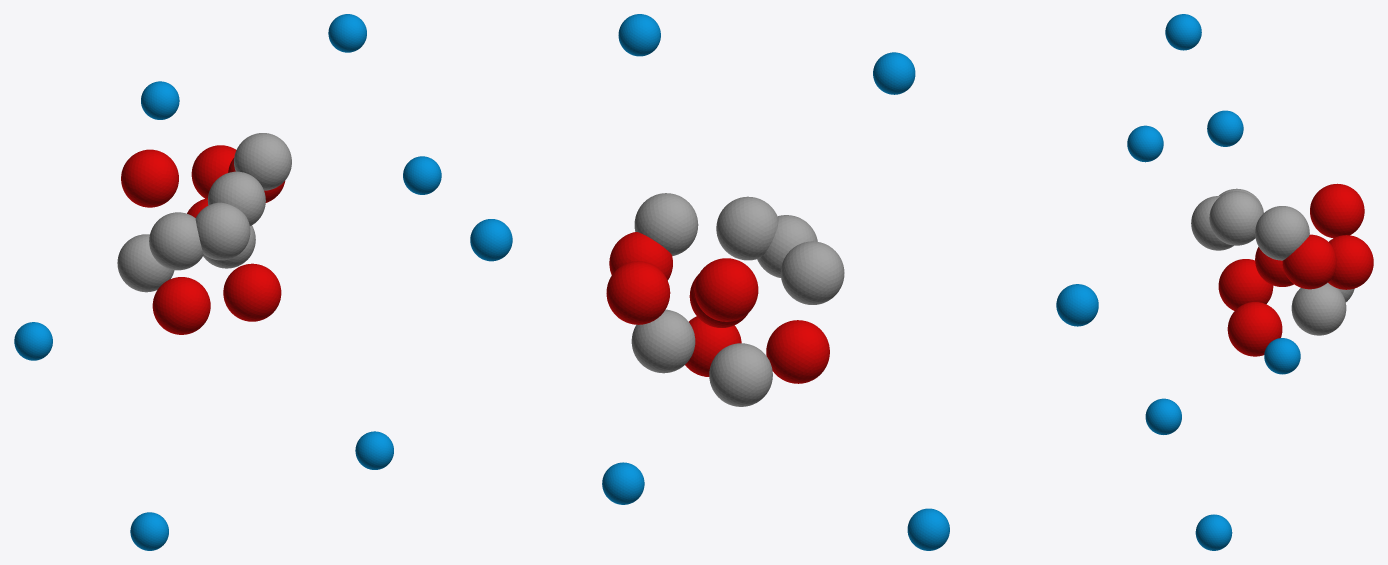
3 renders of one model, left to right at view 1: azimuth 30°, elevation 25°; view 2: azimuth 150°, elevation 25°; view 3: azimuth 270°, elevation 25°, orthographic. The views are drawn at different scales.
Parts seen in each view (by area): view 1: world; view 2: world; view 3: world.
Boxes of the visible parts, x1=… form: world: x1=14, y1=14, x2=441, y2=550; world: x1=470, y1=14, x2=1098, y2=550; world: x1=1127, y1=14, x2=1373, y2=550.
Size of the model in its own units: 5.9 by 5.16 by 2.7.
